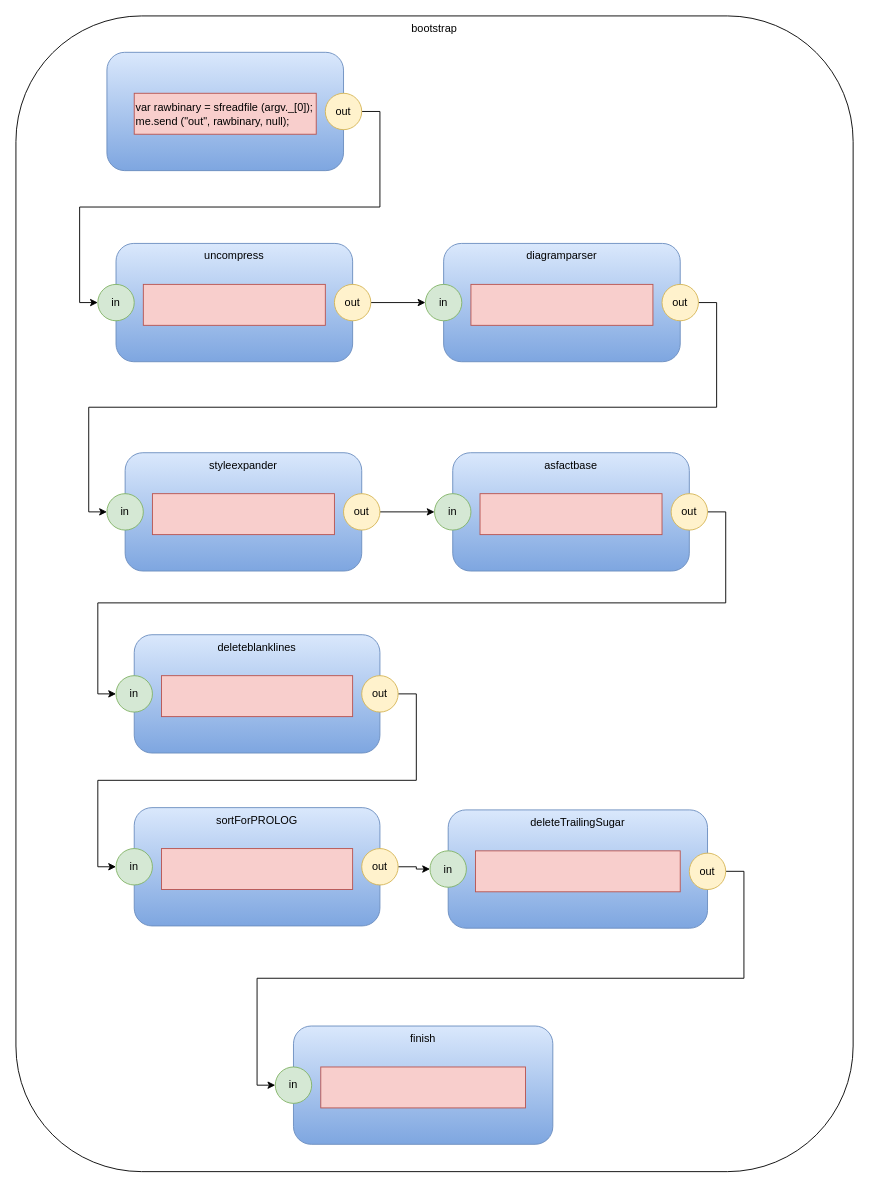
Image size: 869x1188. Some labels were removed from this diagram. The box of each missing label's shape, as (x1, y1, x2, y2) in pixels:
console.log (message.data);: (320, 1066, 526, 1108)
kickStart: (106, 51, 344, 171)
var u = sfuncompress (message.data); me.send ("out", u, message);: (142, 283, 325, 325)
var x = sfasfactbase (message.data); me.send ("out", x, message);: (479, 493, 662, 535)
var x = sfdeleteblanklines (message.data); me.send ("out", x, message);: (161, 675, 353, 717)
var x = sfdeleteTrailingSugar (message.data); me.send ("out", x, message);: (475, 850, 680, 892)
var x = sfdiagramparser (message.data); me.send ("out", x, message);: (470, 283, 653, 325)
var x = sfsortForPROLOG (message.data); me.send ("out", x, message);: (161, 848, 353, 890)
var x = sfstyleexpander (message.data); me.send ("out", x, message);: (152, 493, 334, 535)
